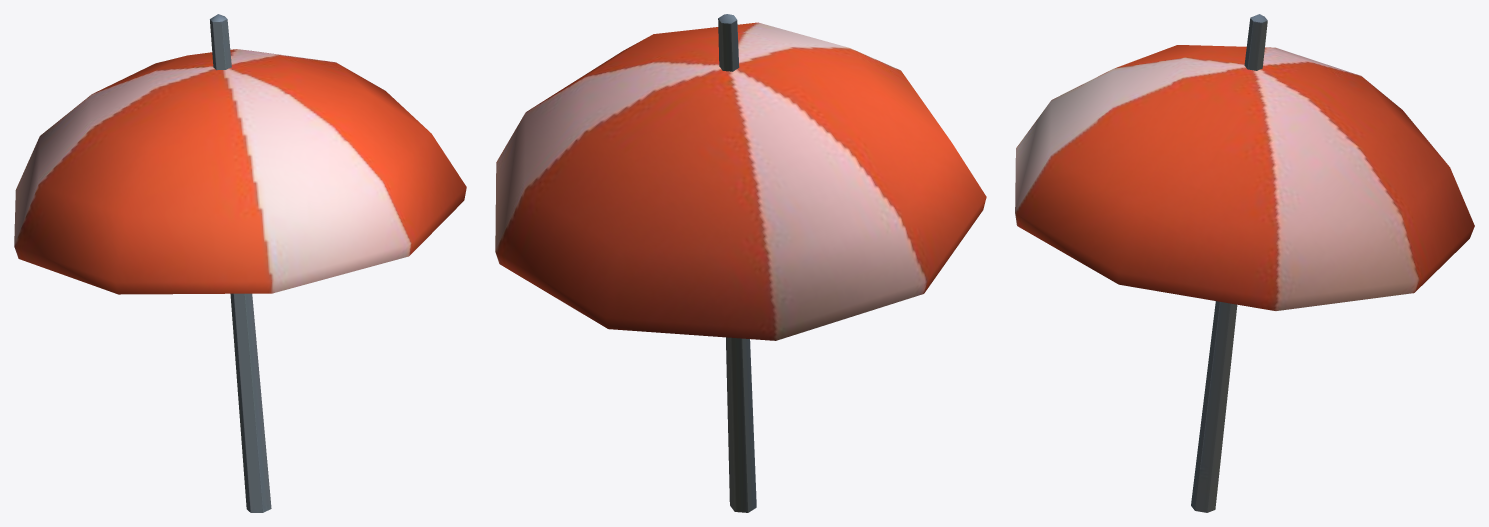
The model's file is YeShu_Shan.FBX.
3 renders of one model, left to right at view 1: azimuth 30°, elevation 25°; view 2: azimuth 150°, elevation 25°; view 3: azimuth 270°, elevation 25°, orthographic. The views are drawn at different scales.
Visible parts, largest first — view 1: YeShu_Shan; view 2: YeShu_Shan; view 3: YeShu_Shan.
Part boxes in pixels (box(x1,y1,x2,y2)): YeShu_Shan: box(14, 14, 466, 512); YeShu_Shan: box(495, 14, 986, 512); YeShu_Shan: box(1015, 14, 1474, 512).
Size of the model in its own units: 365 by 420 by 358.
